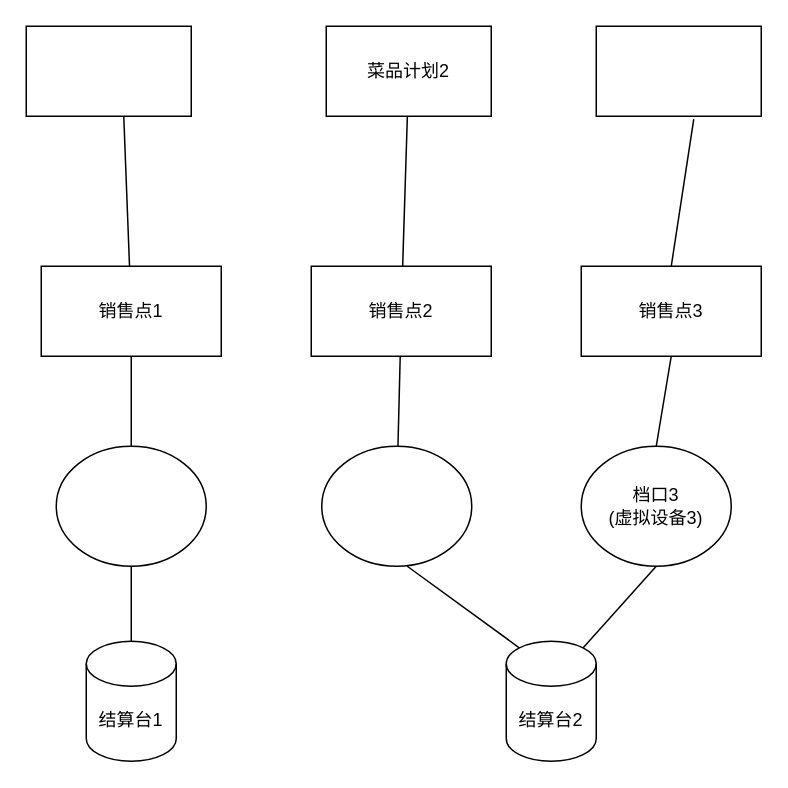
This 788x788 diagram has some shape labels left out. Each missing label, with the centre of its shape:
"档口1 (虚拟设备)" goes at [130,505].
"档口2 (虚拟设备2)" goes at [396,505].
"菜品计划1" goes at [108,70].
"菜品计划3" goes at [678,70].
